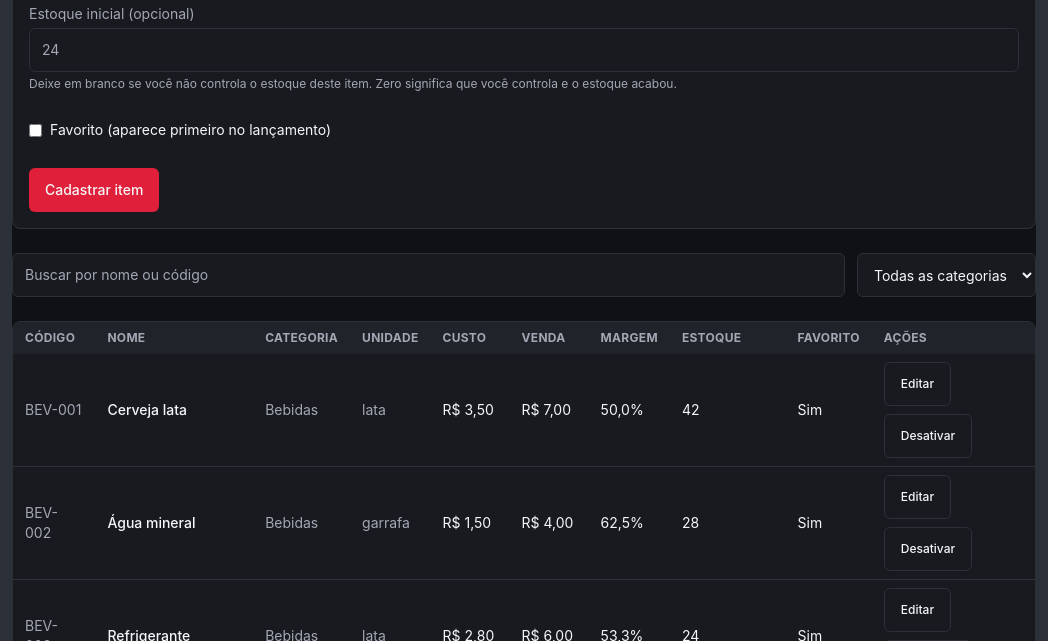
Test: CatalogView item registration › goes back to registering a new item after an edit is cancelled
(page scrolled)
Check: the row "Cerveja lata" is shown, box x1=13 y1=354 x2=1035 y2=466
Click the button named "Editar Cerveja lata": point(917, 384) x1=884 y1=362 x2=951 y2=406
(page scrolled)
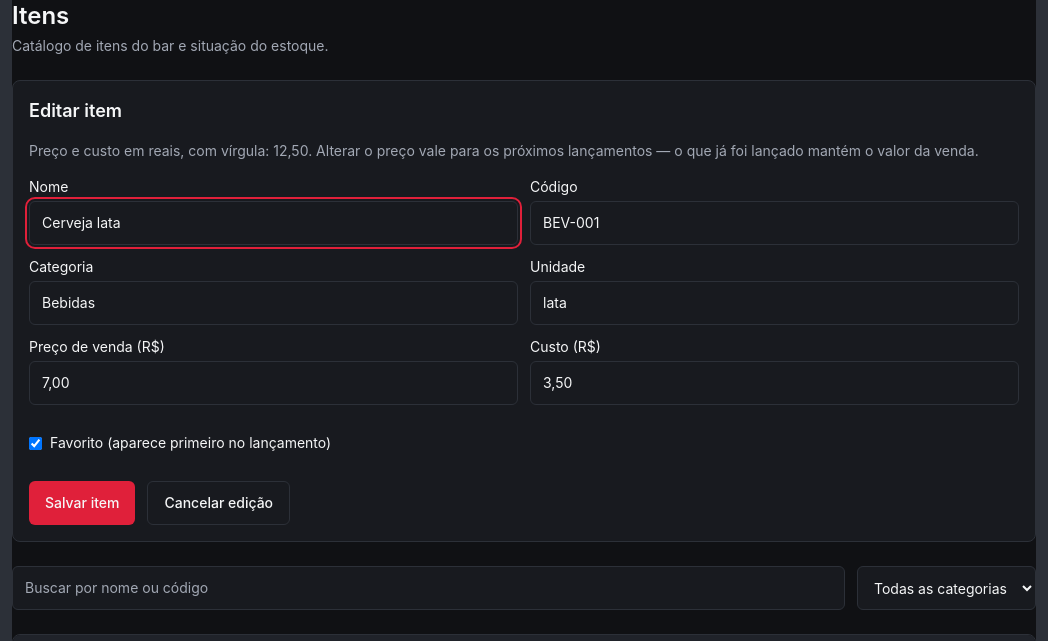
Check: the field labelled "Nome" holds "Cerveja lata", box x1=29 y1=201 x2=518 y2=245
Click the button "Cancelar edição": point(219, 503) x1=148 y1=481 x2=290 y2=525
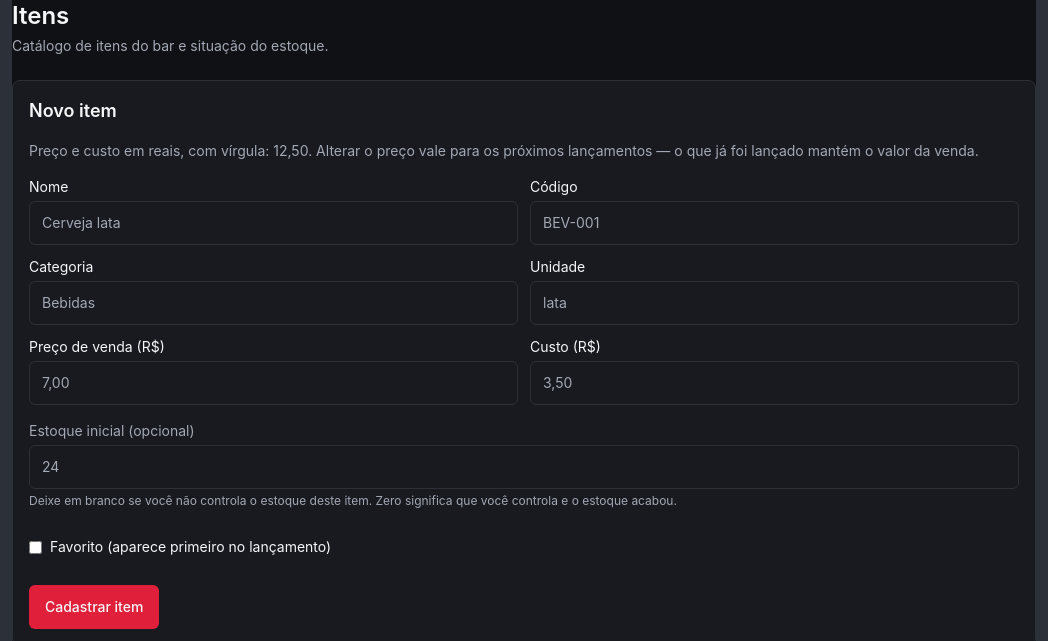
Check: the field labelled "Nome" is empty, box x1=29 y1=201 x2=518 y2=245
Check: the button "Cadastrar item" is shown, box x1=29 y1=585 x2=159 y2=629
